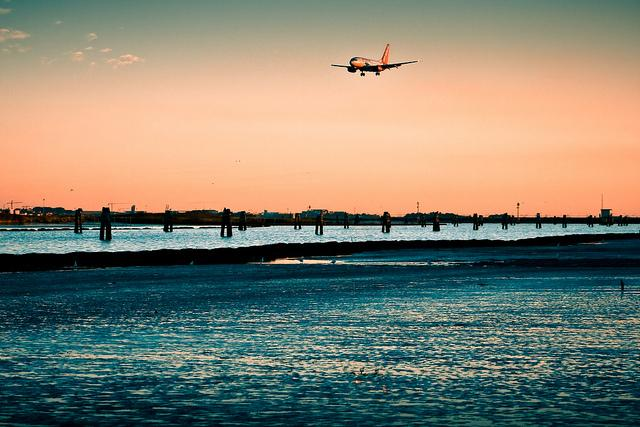airplane: (328, 42, 422, 79)
